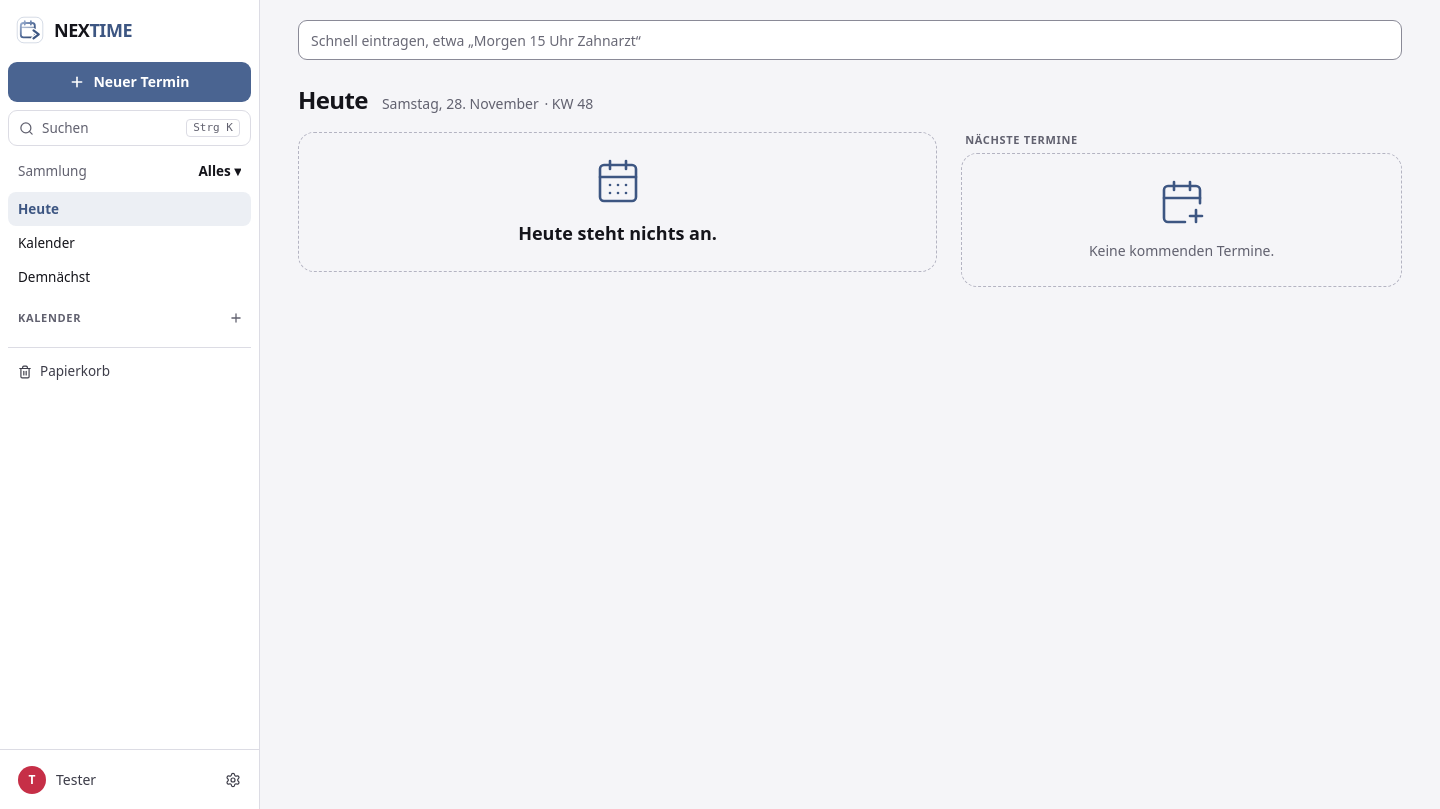
Scenario: TIME-2 My account › TIME-2 AC-7 the operator finds the group "Server" with "Allgemein", "Konten" and "Google einrichten"
This screenshot has width=1440, height=809.
Later steps or results of the test are not shown.
Click the link with test id "settings-entry" at coordinates (76, 780), box [8,758,251,802]
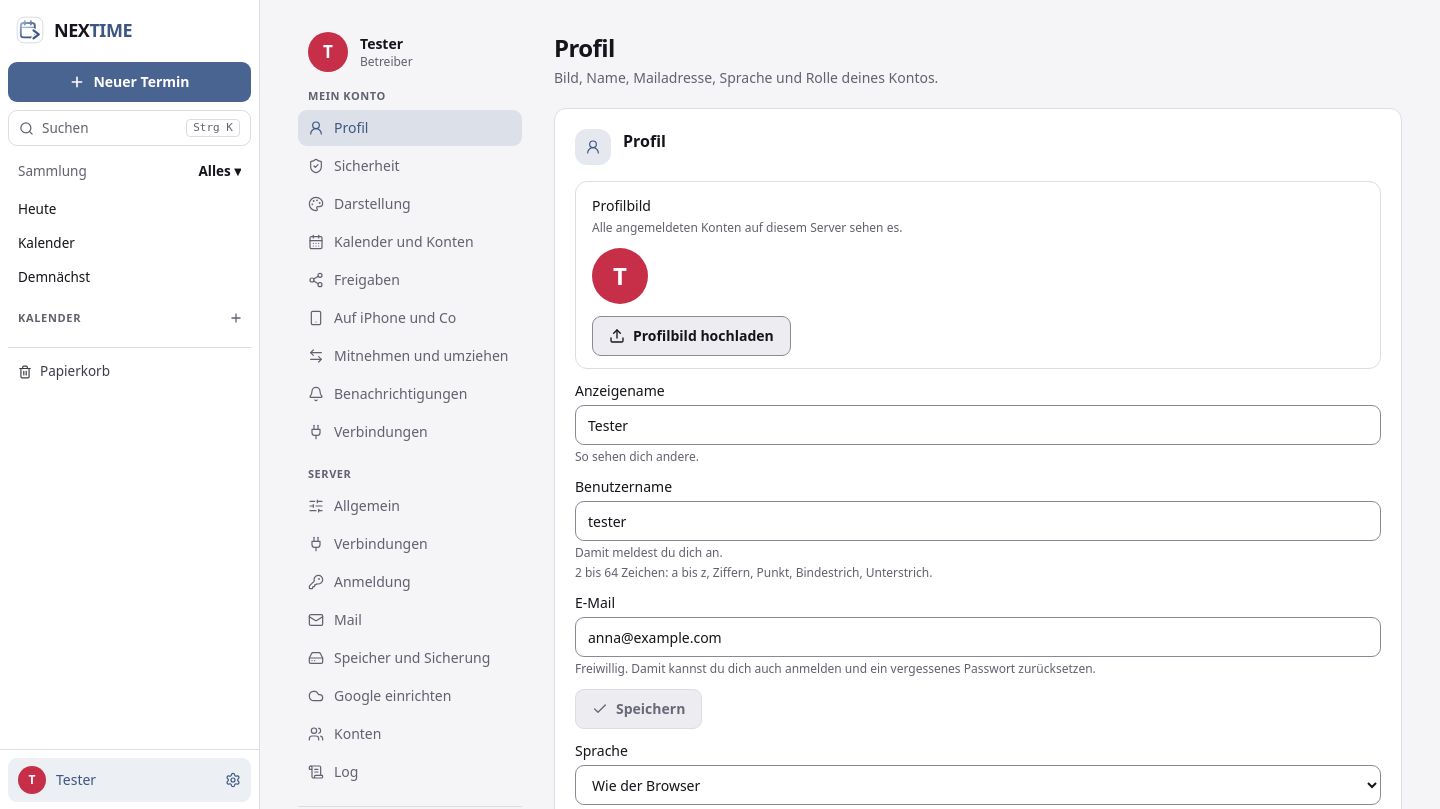
Check: the text with id "settings-group-server" reads "Server", box [308,466,351,481]
